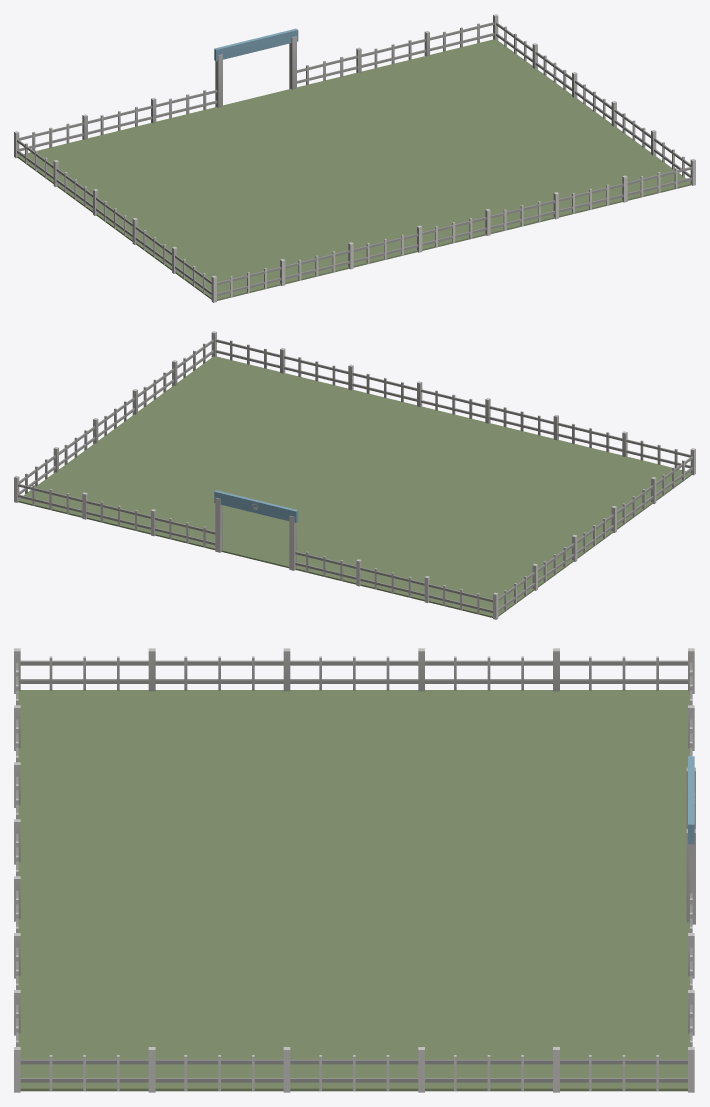
Rendered from roof_pet_yard.glb.
3 renders of one model, top to bottom at view 1: azimuth 30°, elevation 25°; view 2: azimuth 150°, elevation 25°; view 3: azimuth 270°, elevation 25°, orthographic. The views are drawn at different scales.
Parts seen in each view (by area): view 1: roof.pet_yard; view 2: roof.pet_yard; view 3: roof.pet_yard.
Part boxes in pixels (box(x1,y1,x2,y2)): roof.pet_yard: box(14, 14, 695, 302); roof.pet_yard: box(14, 331, 695, 619); roof.pet_yard: box(14, 648, 695, 1092).
Bounding box in the file's own units: 14.1 × 1.66 × 10.12.
